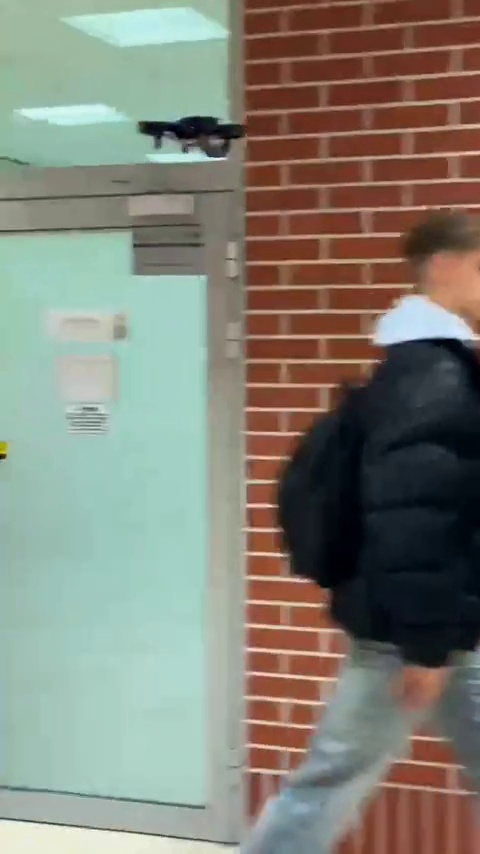drone: (138, 117, 243, 163)
no vest: (264, 210, 478, 842)
